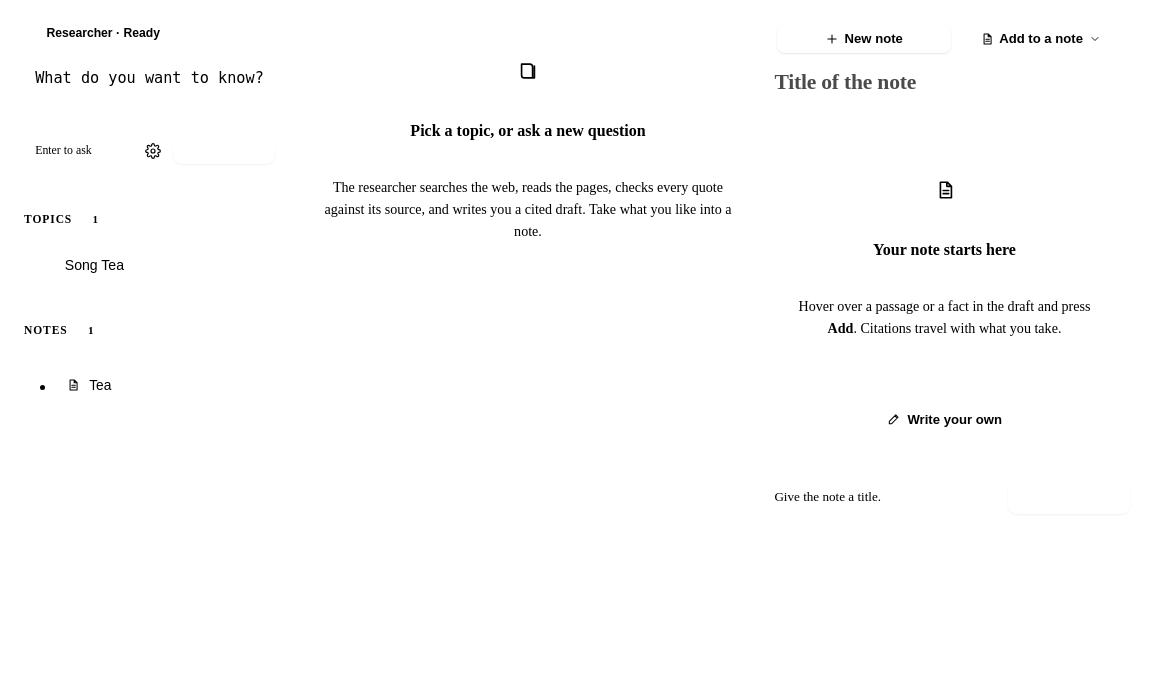
Test: Studio › asking selects the new topic and shows its progress
Expected: the button "Researcher · Ready" is shown, x1=22 y1=22 x2=170 y2=44
Type "Tea houses in Kaifeng" into the text box named "Research question". click: (165, 93)
box: x1=22 y1=56 x2=307 y2=130
Then press Enter
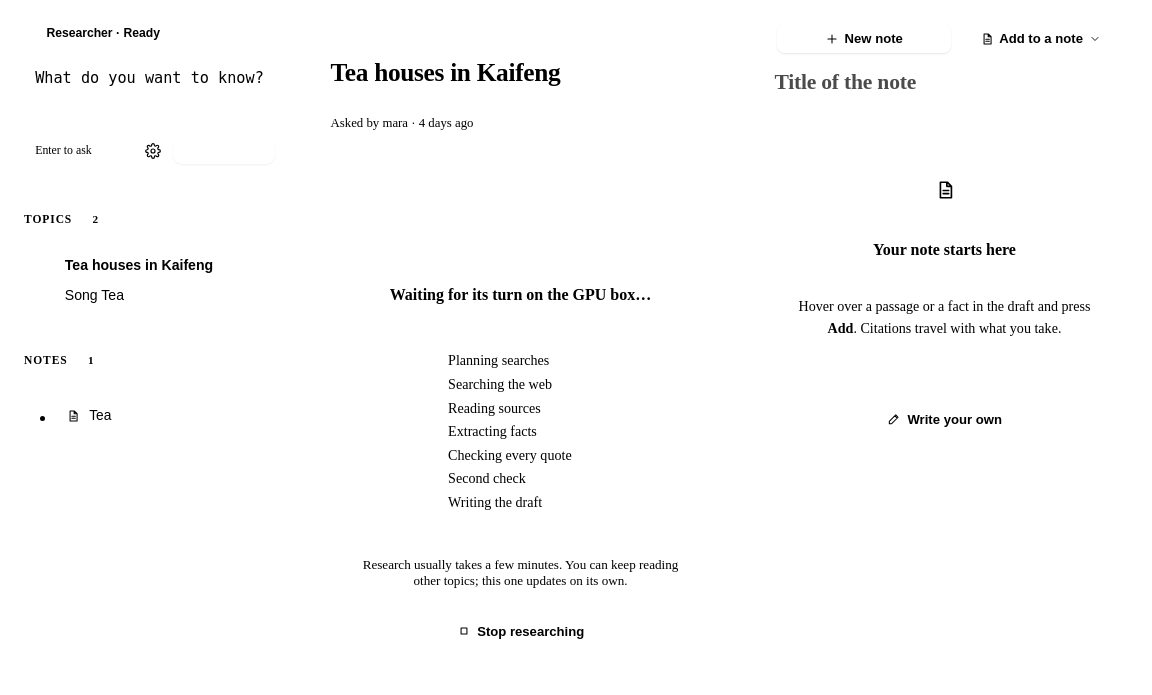
Now the text "Waiting for its turn on the GPU box…" is shown, box x1=390 y1=286 x2=651 y2=304
